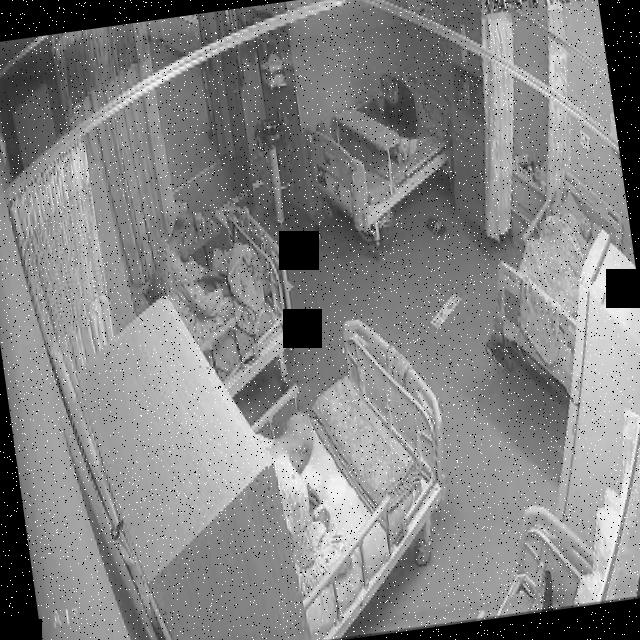bed: (234, 312, 471, 640), (476, 168, 640, 400), (146, 205, 302, 405), (302, 63, 465, 239)
patient: (258, 401, 352, 600), (145, 206, 239, 362), (370, 69, 423, 168)
sit: (144, 196, 283, 354), (257, 399, 353, 601), (371, 70, 423, 166)
